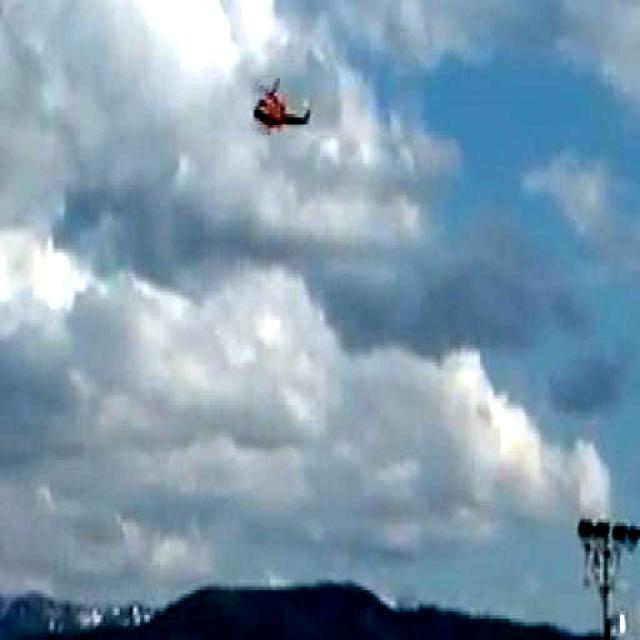drone: (250, 72, 322, 142)
